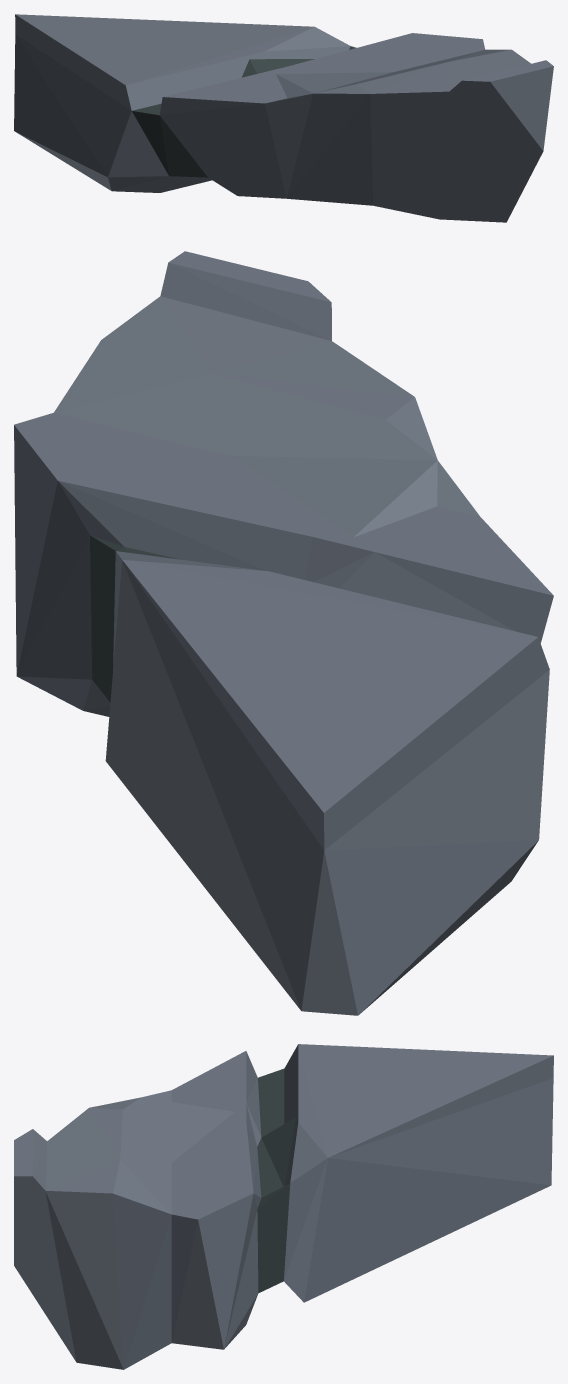
The model's file is WallPiece7.fbx.
3 views of the same model, one above another, from view 1: azimuth 30°, elevation 25°; view 2: azimuth 150°, elevation 25°; view 3: azimuth 270°, elevation 25° (orthographic). The views are drawn at different scales.
Visible parts, largest first — view 1: WallPiece7; view 2: WallPiece7; view 3: WallPiece7.
Boxes of the visible parts, left/top/right/bottom form: WallPiece7: left=14, top=14, right=553, bottom=222; WallPiece7: left=14, top=251, right=553, bottom=1015; WallPiece7: left=14, top=1044, right=553, bottom=1369.
Bounding box in the file's own units: 219 × 111 × 274.
